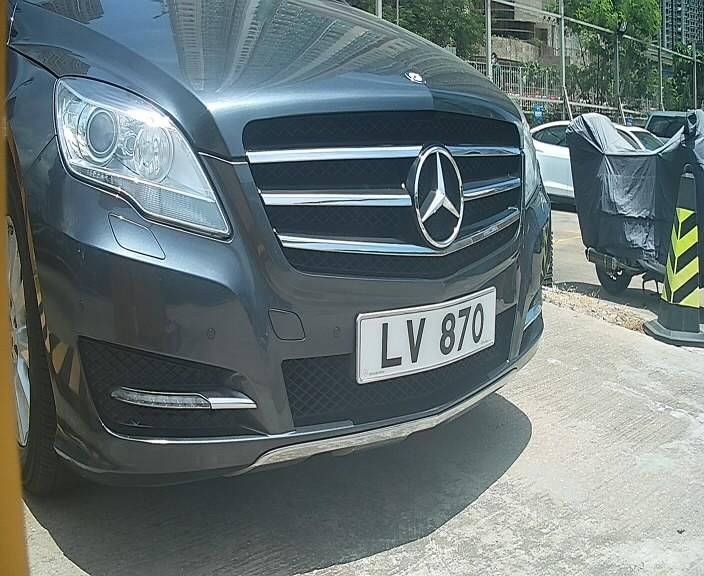License Plate: (346, 286, 500, 386)
